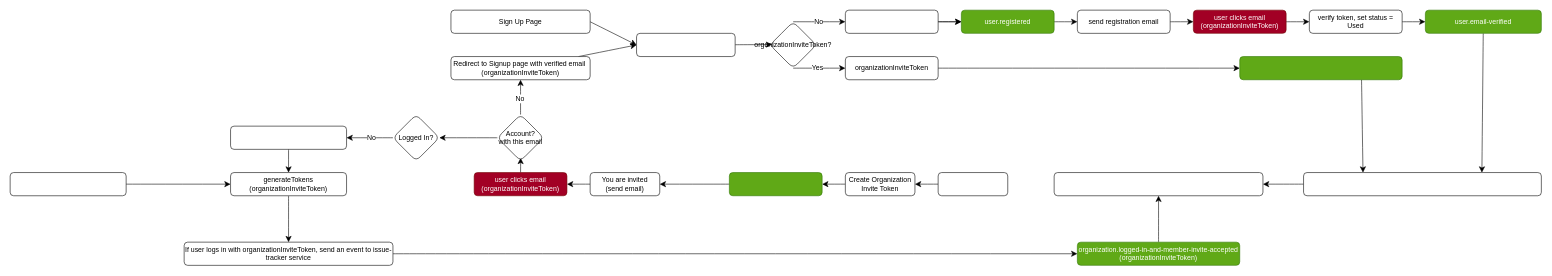
This 1552x276 diagram has some shape labels left out. The shapes that lost their labels are listed below. From the top down, each one's centre as x and y in pixels, then its label:
At [891,21]: "Email Verification Token".
At [685,45]: "registerUser (organizationInviteToken)".
At [1320,68]: "user.registered-and-organization-invite-accpeted (organizationInviteToken)".
At [288,137]: "Login with Invite Page".
At [68,184]: "Login Page".
At [775,184]: "organization.member-invited (organizationInviteToken)".
At [973,184]: "user invites".
At [1158,184]: "Verify organization token & Add member to organization".
At [1422,184]: "create user, default organization, set user.defaultOrganizationId".
